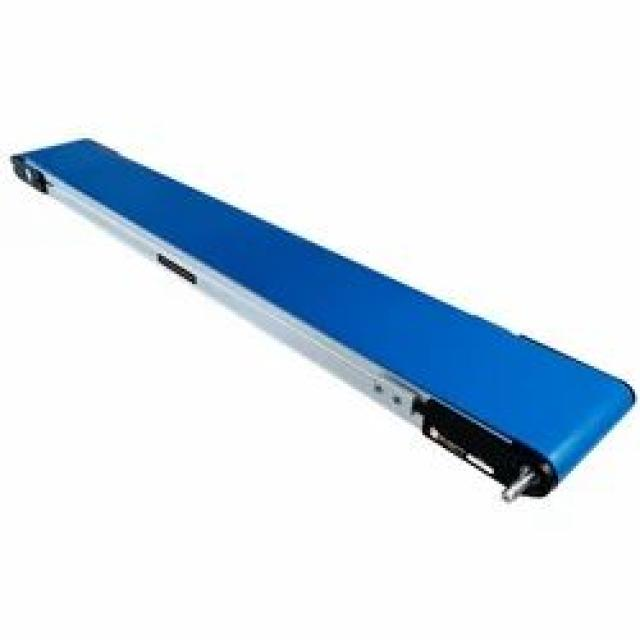conveyor: (11, 114, 640, 538)
